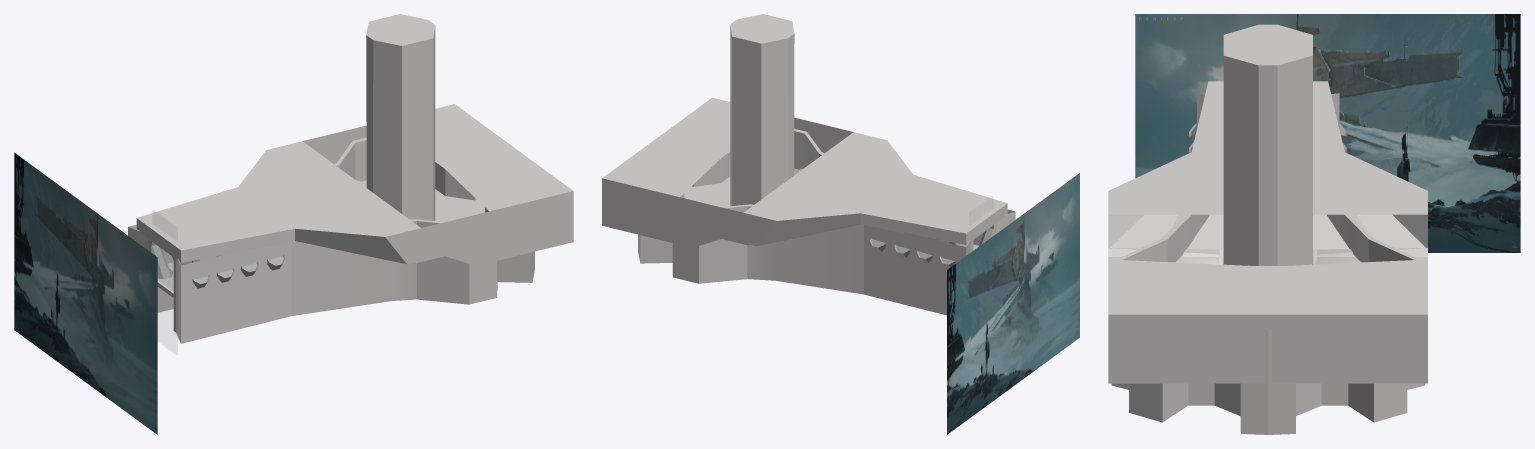
File: LevelWhitebox.fbx
The picture shows the model from 3 angles, left to right: view 1: azimuth 30°, elevation 25°; view 2: azimuth 150°, elevation 25°; view 3: azimuth 270°, elevation 25°; orthographic projection. The views are drawn at different scales.
Visible parts, largest first — view 1: pCube4, pPlane1, pCube3; view 2: pCube4, pPlane1, pCube3; view 3: pCube4, pPlane1, pCube3.
Part boxes in pixels (left/top/right/bottom): pCube4: left=136, top=14, right=573, bottom=265; pPlane1: left=14, top=152, right=157, bottom=434; pCube3: left=128, top=137, right=534, bottom=343; pCube4: left=602, top=14, right=1007, bottom=247; pPlane1: left=947, top=173, right=1079, bottom=434; pCube3: left=638, top=128, right=1015, bottom=315; pCube4: left=1108, top=24, right=1427, bottom=383; pPlane1: left=1135, top=14, right=1520, bottom=252; pCube3: left=1111, top=93, right=1424, bottom=434.
Bounding box in the file's own units: 230 × 161 × 150.
Materials: 6 (1 with a texture image).
